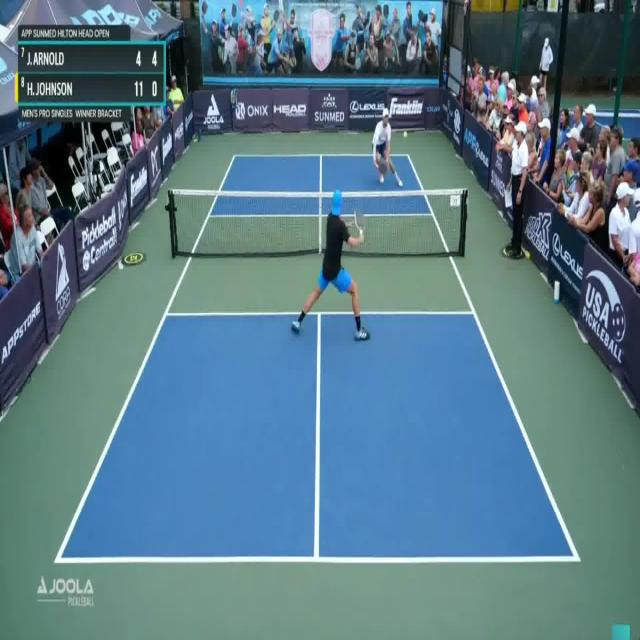Court: (52, 154, 580, 566)
ball: (400, 126, 408, 145)
